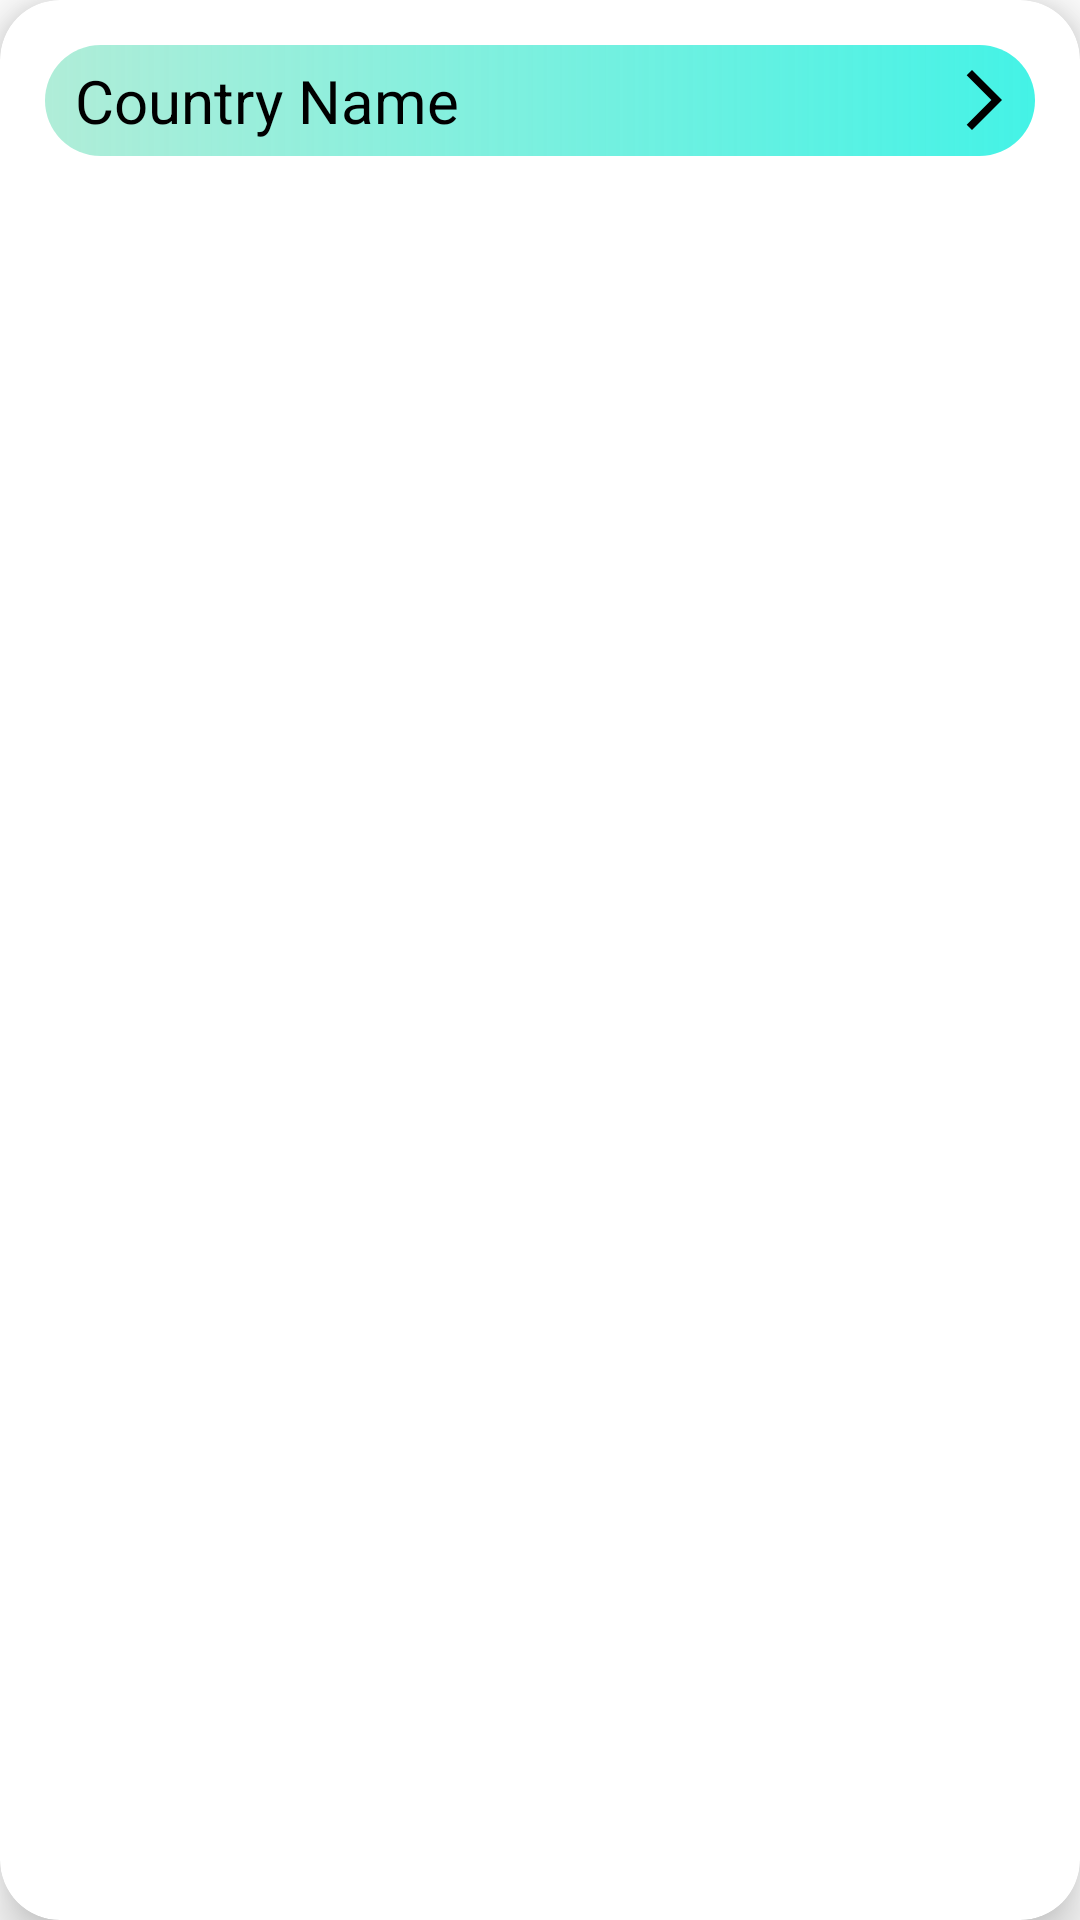

Locate icon controls on the screen. Image size 1080px x 1920px, boxes as detection(x1, y1, x2, y2).
arrow forward: detection(967, 70, 1002, 130)
